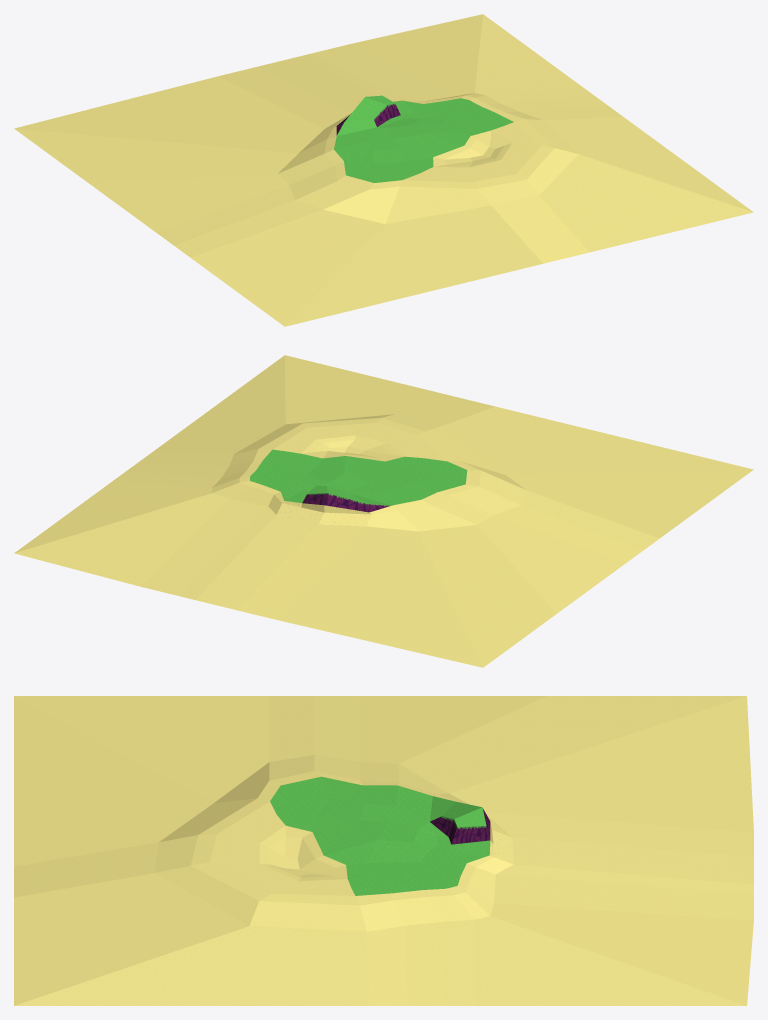
Rendered from ground_00.glb.
The picture shows the model from 3 angles, top to bottom: view 1: azimuth 30°, elevation 25°; view 2: azimuth 150°, elevation 25°; view 3: azimuth 270°, elevation 25°; orthographic projection. The views are drawn at different scales.
Parts seen in each view (by area): view 1: ground_00; view 2: ground_00; view 3: ground_00.
Boxes of the visible parts, left/top/right/bottom form: ground_00: left=14, top=14, right=753, bottom=326; ground_00: left=14, top=355, right=753, bottom=667; ground_00: left=14, top=696, right=753, bottom=1005.
Bounding box in the file's own units: 200 × 16.9 × 202.
3 materials, 3 textured.
